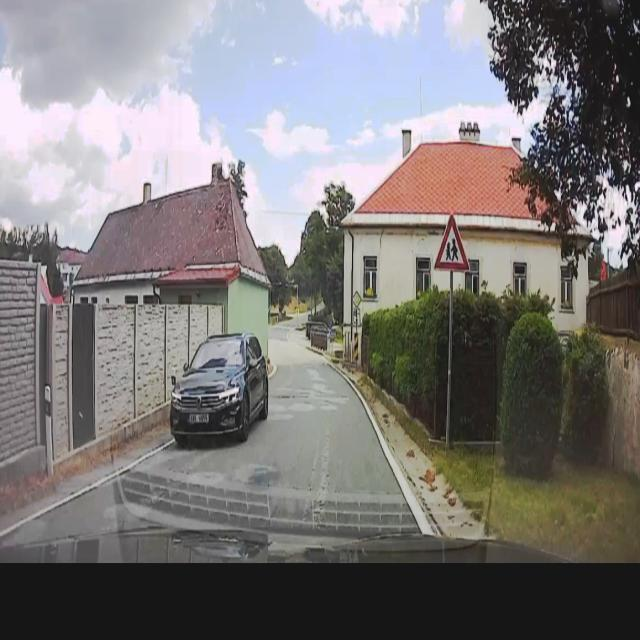Priority road: (351, 287, 362, 309)
